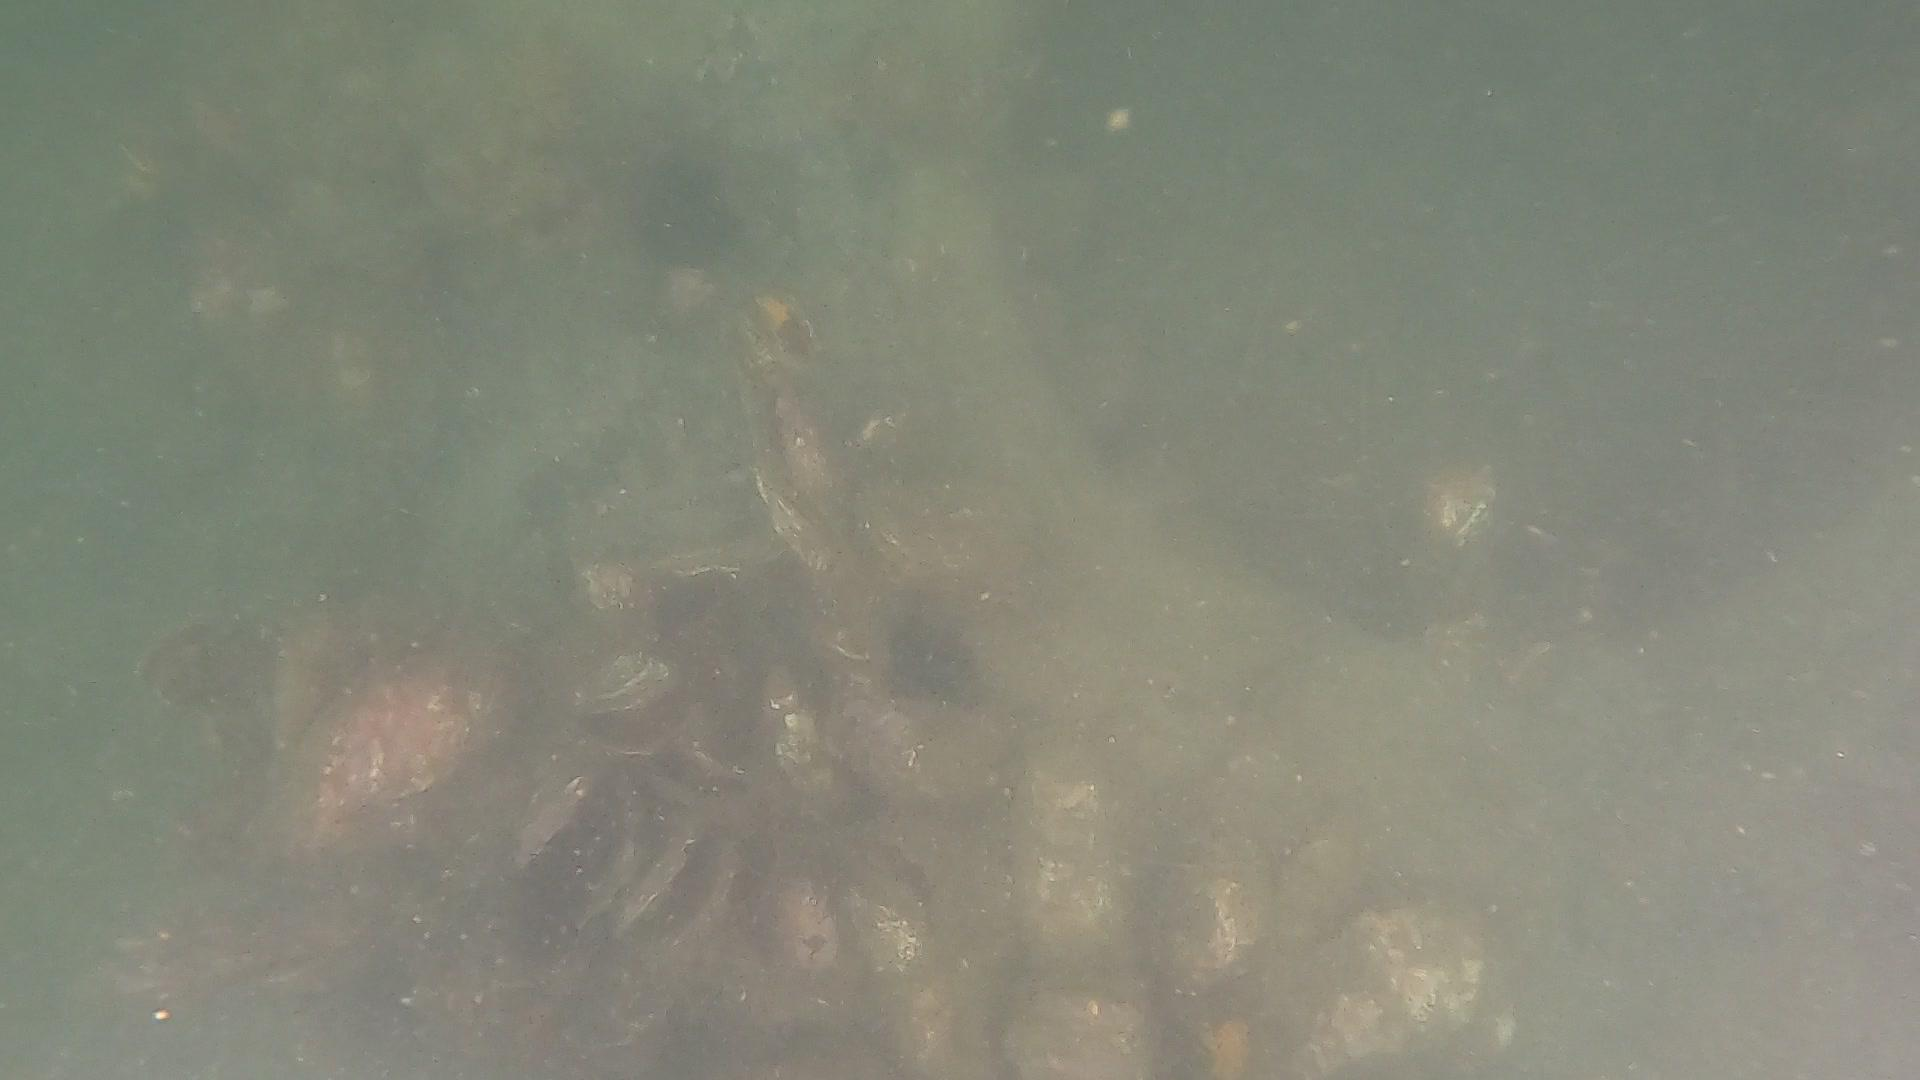tire: (419, 0, 1920, 1080)
